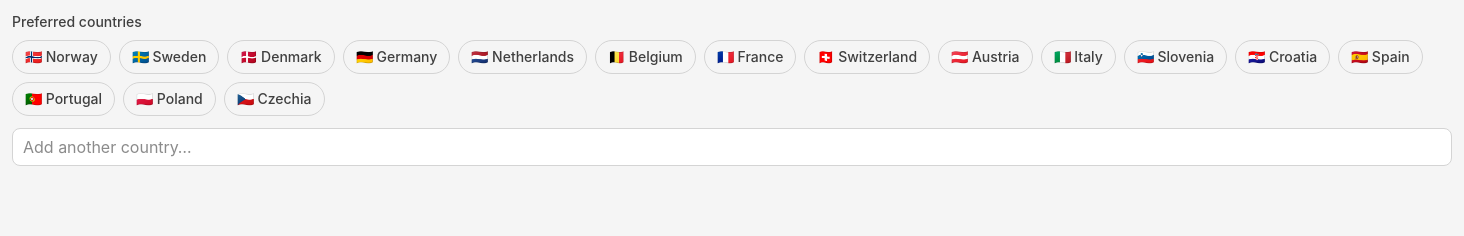
Test case: ChipMultiSelect country search › clears the query after a pick, so the next country starts from empty
Type "luxem" into the search field with test id "country-search".
click(732, 147); type("luxem")  # box [12, 128, 1452, 166]
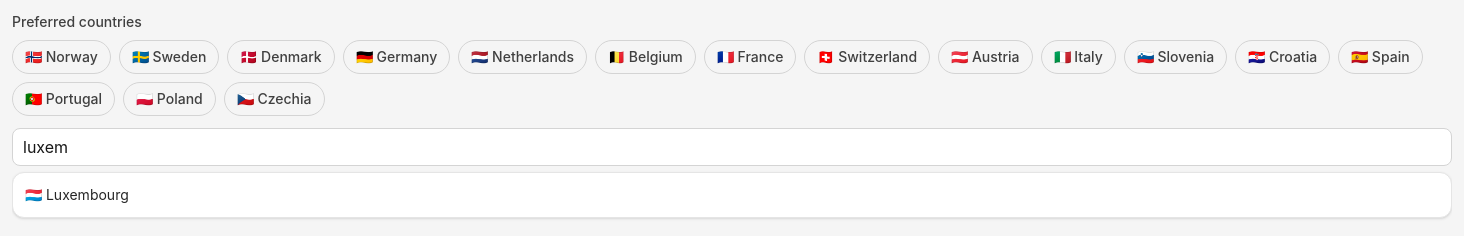
Click the button with test id "country-search-result-LU".
click(77, 194)  # box [13, 173, 1451, 217]
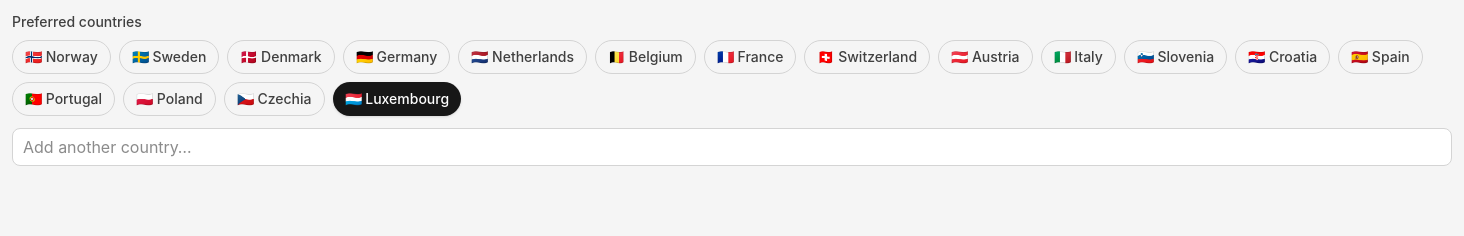
Expected: the search field with test id "country-search" is empty, [12, 128, 1452, 166]
Expected: the element with test id "country-search-results" is gone
